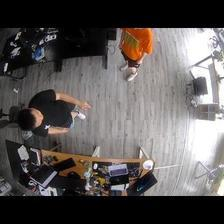normal: (16, 89, 93, 137), (119, 28, 153, 82)
